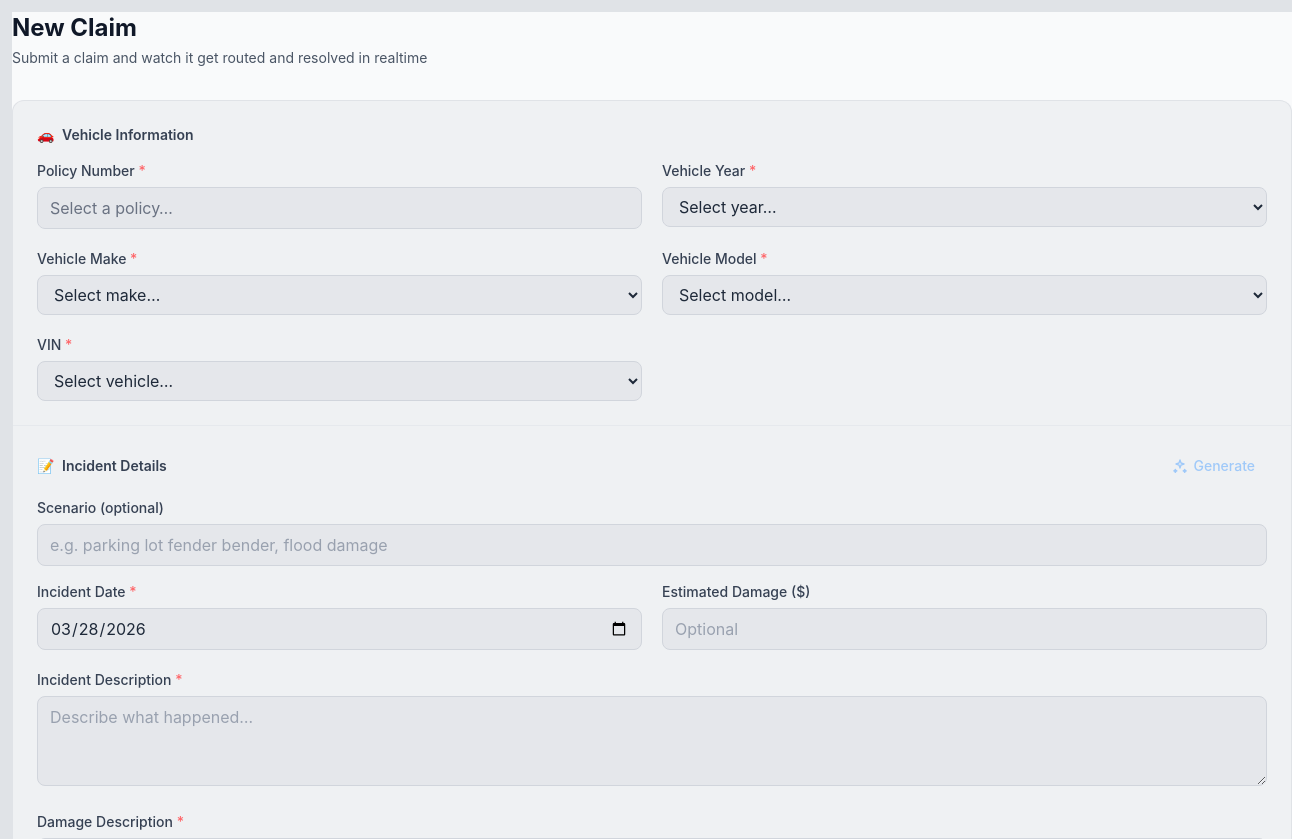
Test case: NewClaimForm › Generate incident details › Generate shows error message on API failure
Click the button named "policy number". click: [111, 208]
box: [37,187,642,229]
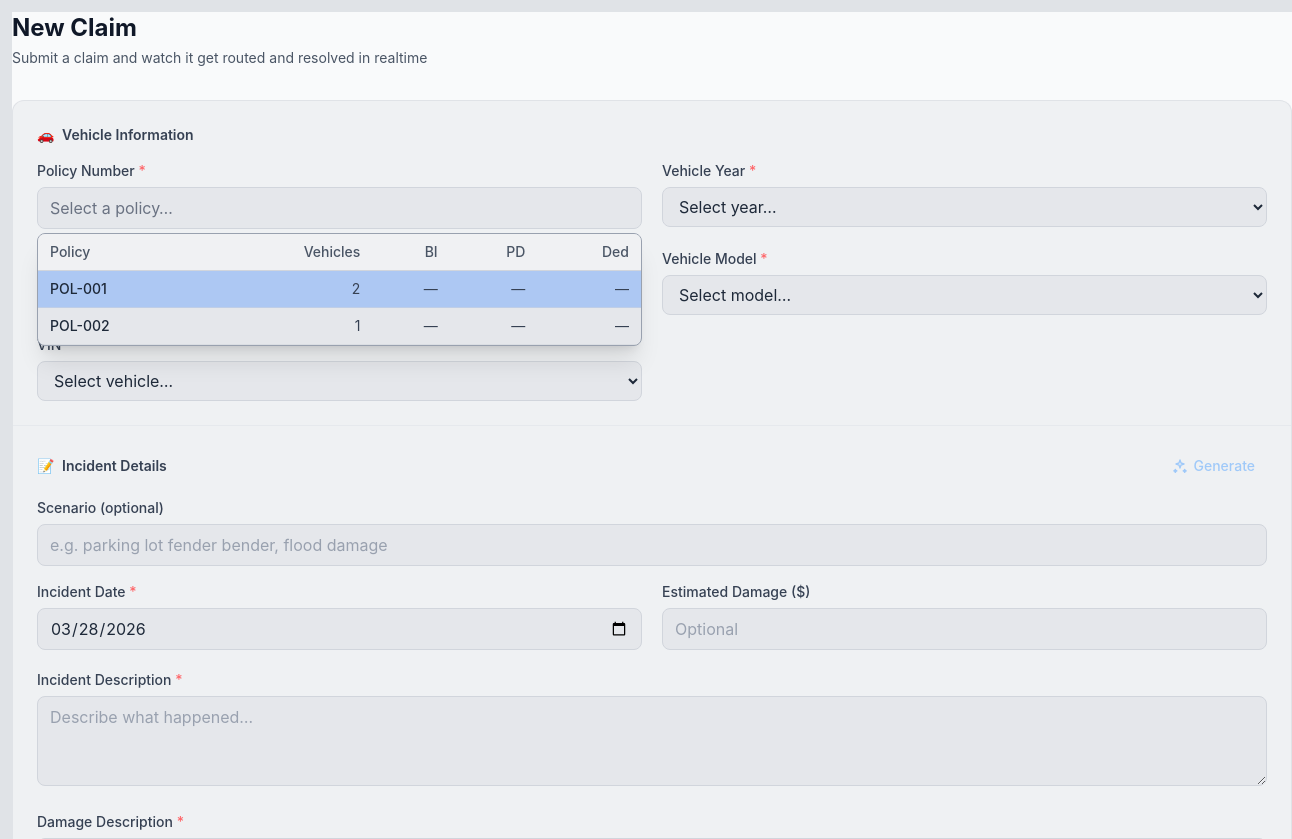
Click the text "POL-001". click: [78, 288]
box: [38,270,208,308]
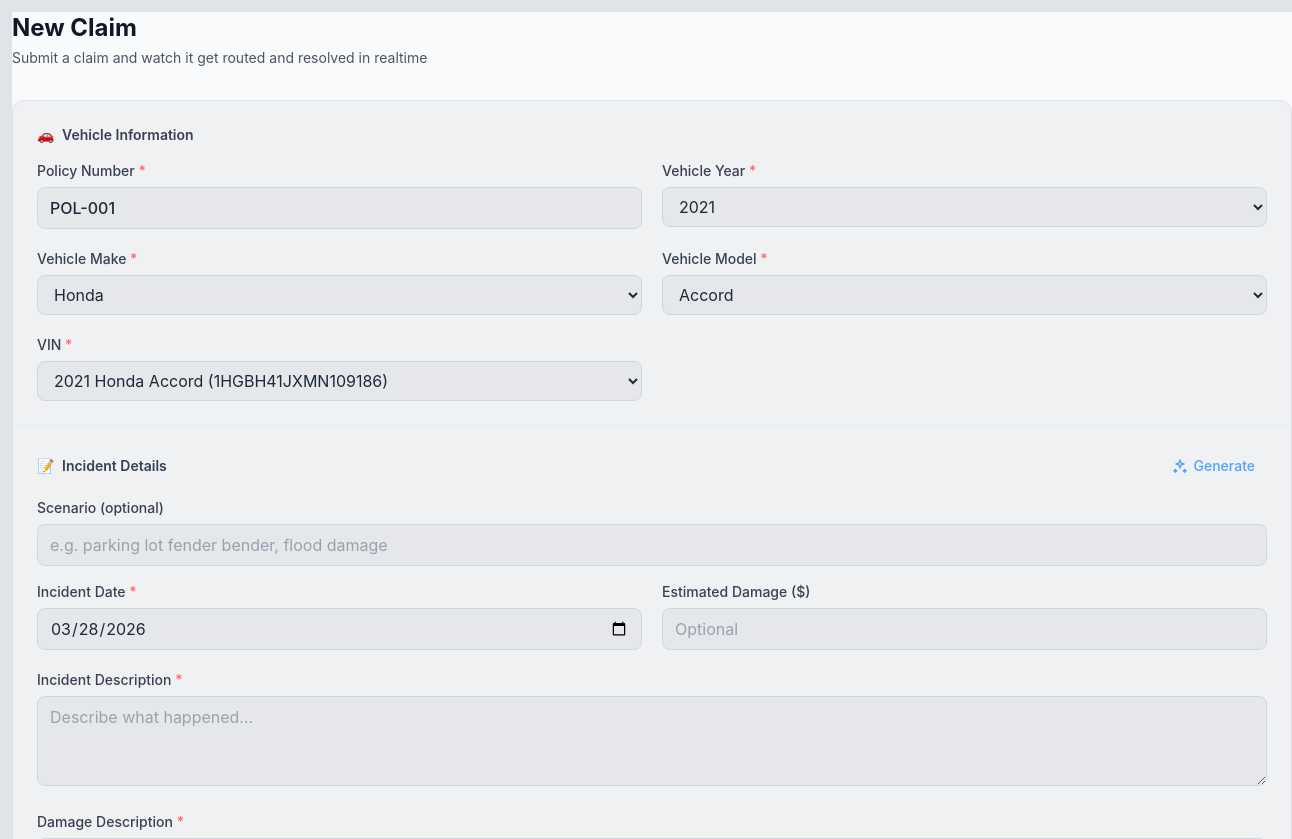
Select "2021" in the dropdown labelled "Vehicle Year *". click: [964, 207]
box: [662,187,1267,227]
Select "Honda" in the dropdown labelled "Vehicle Make *". click: [340, 295]
box: [37,275,642,315]
Select "Accord" in the dropdown labelled "Vehicle Model *". click: [964, 295]
box: [662,275,1267,315]
Click the button "Generate". click: [1213, 466]
box: [1160,450,1267,482]
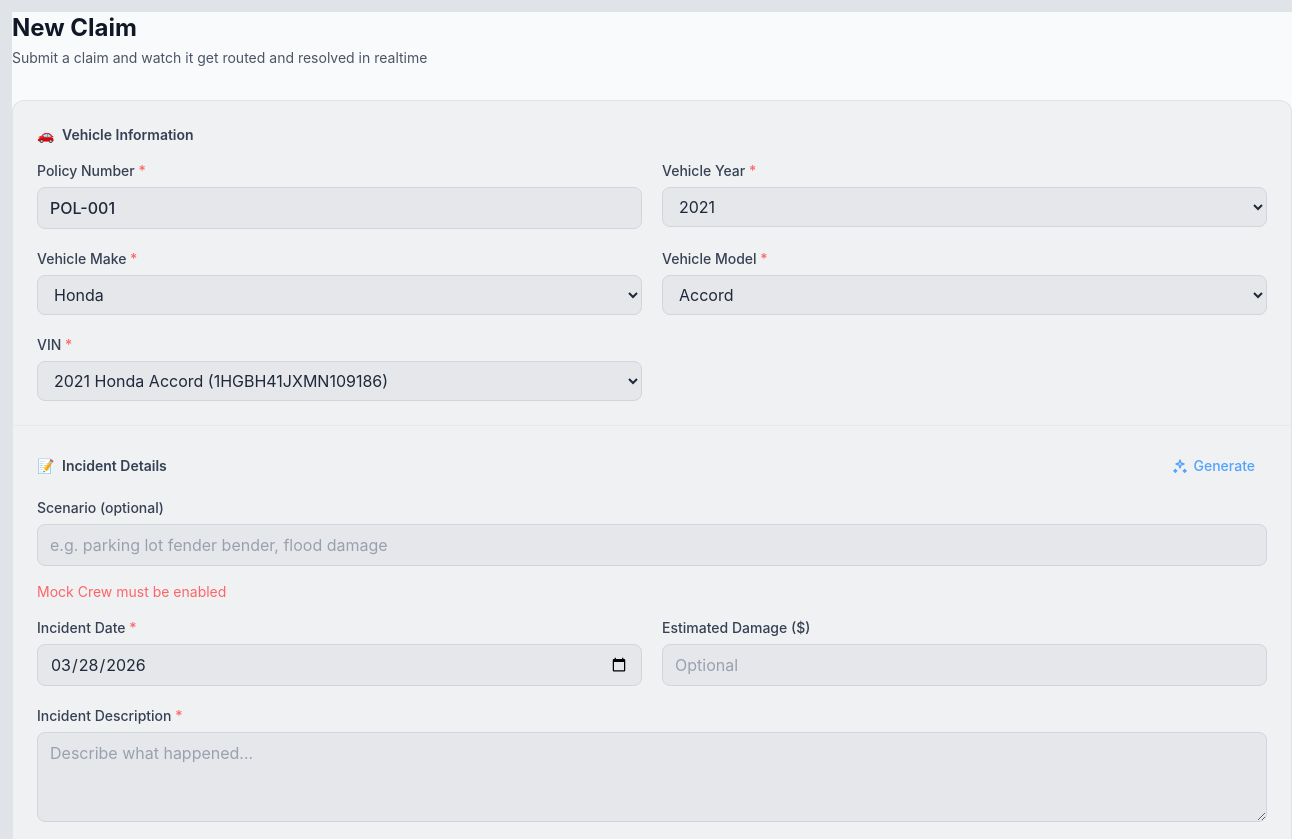
Check: the message reads "Mock Crew must be enabled", box [37,583,226,600]
